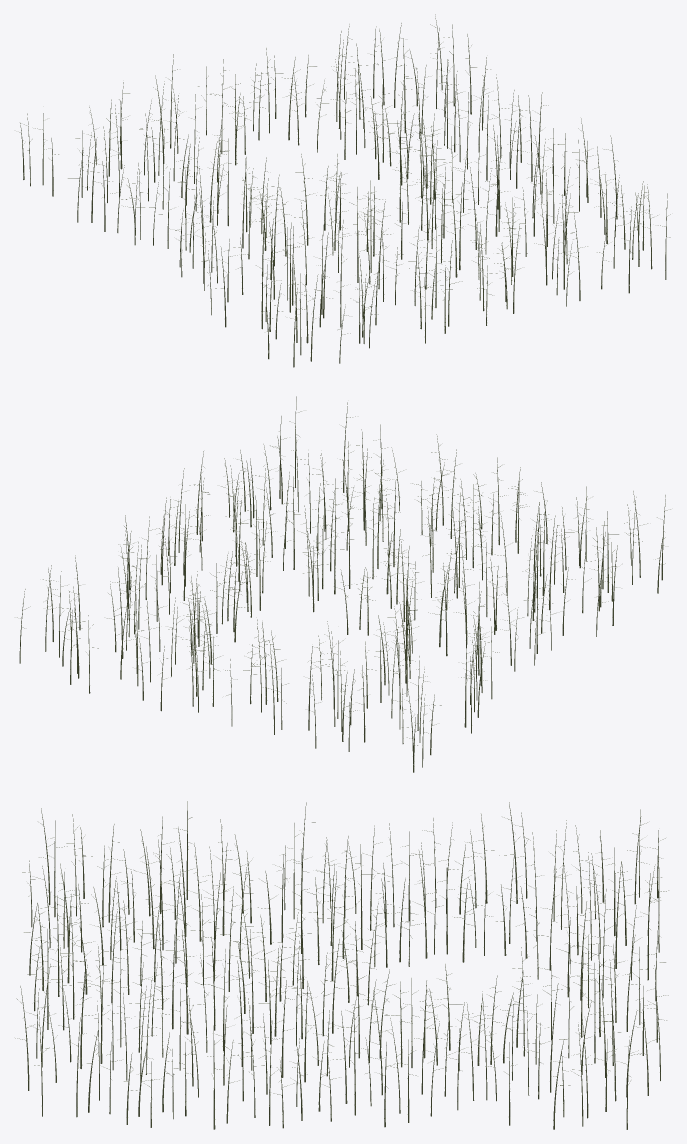
Rendered from bamboo_culms_0.glb.
3 views of the same model, one above another, from view 1: azimuth 30°, elevation 25°; view 2: azimuth 150°, elevation 25°; view 3: azimuth 270°, elevation 25° (orthographic). The views are drawn at different scales.
Parts seen in each view (by area): view 1: bamboo_culms_00, bamboo_culms_02, bamboo_culms_01, bamboo_culms_03; view 2: bamboo_culms_00, bamboo_culms_02, bamboo_culms_01, bamboo_culms_03; view 3: bamboo_culms_00, bamboo_culms_02, bamboo_culms_01, bamboo_culms_03.
Boxes of the visible parts, box(x1,y1,x2,y2) form: bamboo_culms_00: box(19, 14, 490, 232); bamboo_culms_02: box(201, 118, 619, 329); bamboo_culms_01: box(123, 71, 558, 283); bamboo_culms_03: box(261, 174, 670, 367); bamboo_culms_00: box(17, 542, 487, 772); bamboo_culms_02: box(167, 451, 617, 650); bamboo_culms_01: box(118, 497, 545, 704); bamboo_culms_03: box(221, 396, 670, 607); bamboo_culms_00: box(461, 802, 668, 1129); bamboo_culms_02: box(153, 801, 312, 1129); bamboo_culms_01: box(293, 802, 490, 1127); bamboo_culms_03: box(15, 808, 174, 1127).
Size of the model in its own units: 81.71 by 17.87 by 93.91.
Materials: 1 (1 with a texture image).
